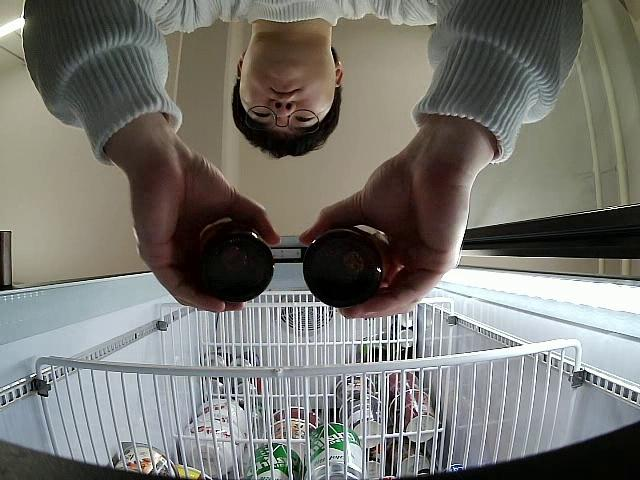00_hand: (300, 144, 468, 317), (135, 145, 281, 312)
17_vita500: (303, 227, 399, 307), (184, 217, 275, 301)
